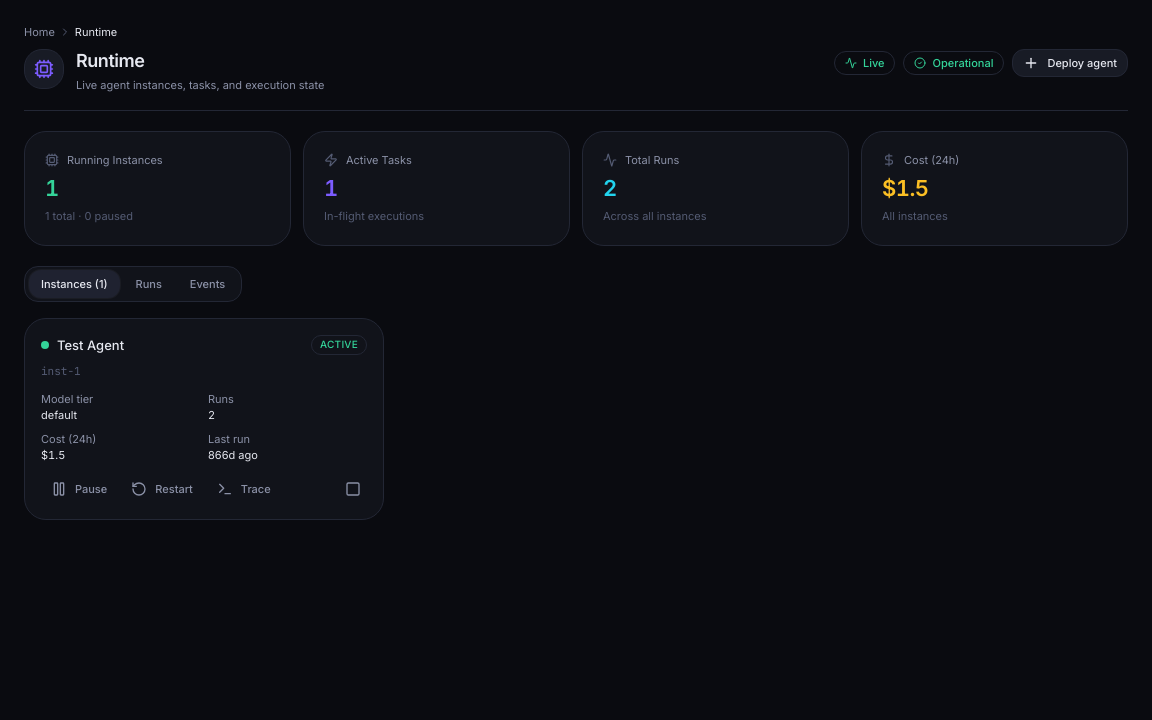
Test: RuntimePage › expands trace and renders executions via useAgentExecutions
The image size is (1152, 720).
Click the button "Trace" at (244, 489), box [207,475,281,503]
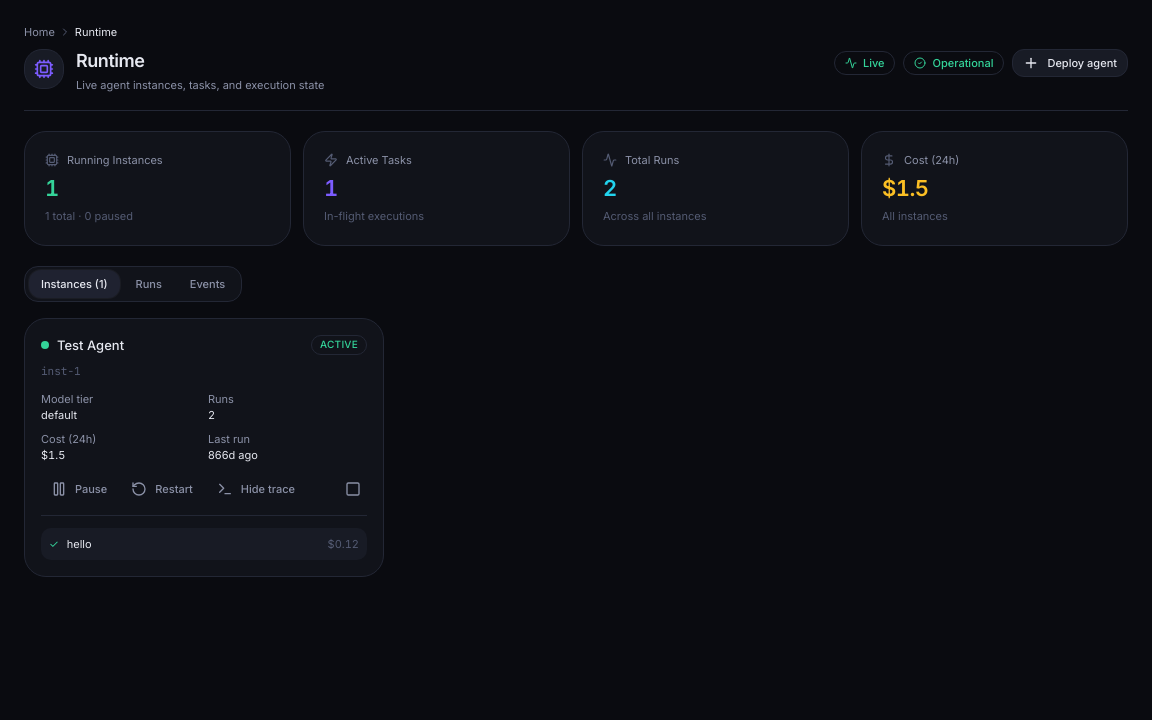
Result: the text "hello" is shown at [67,536,92,552]
